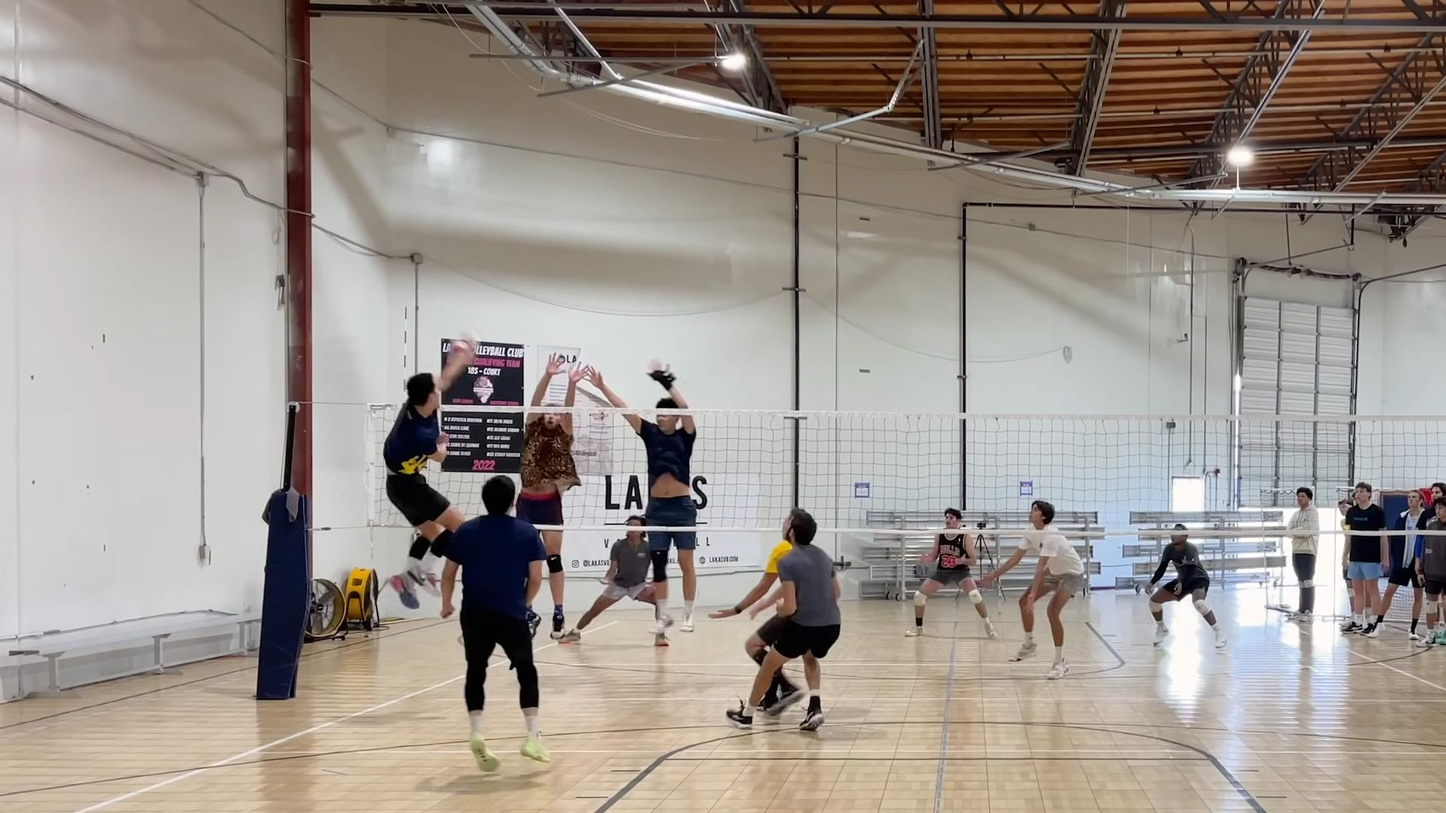Attack: (369, 338, 474, 609)
Block: (584, 351, 708, 639), (498, 351, 585, 646)
Player: (441, 475, 549, 771), (727, 510, 840, 730), (980, 500, 1084, 679), (905, 507, 996, 636), (561, 516, 653, 643), (710, 509, 799, 618), (1149, 533, 1226, 647)
ball: (445, 330, 477, 359)
